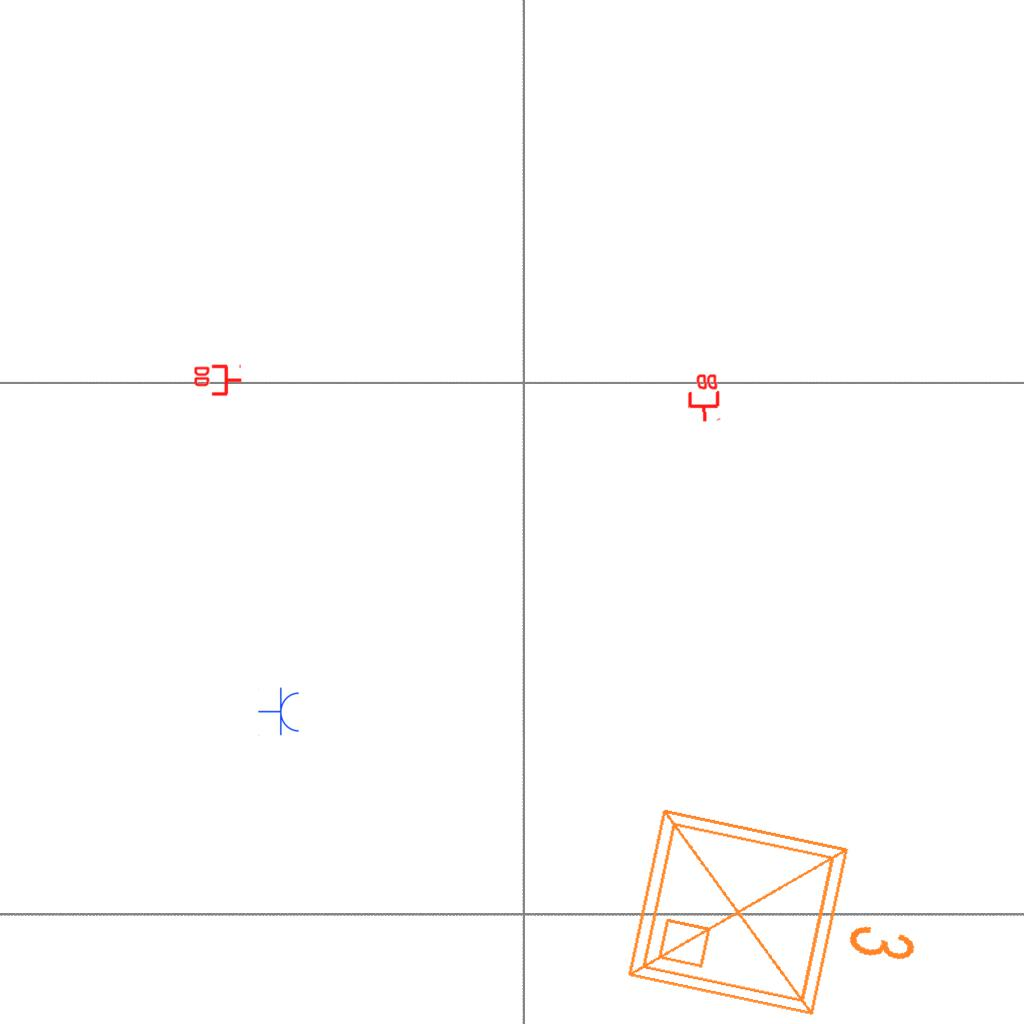Datenanschluss_zweifach: (685, 371, 721, 424), (192, 364, 243, 398)
Einbaudownlights_LED_Konferenzraeume: (610, 784, 948, 1024)
Schukosteckdose_einfach: (258, 687, 301, 737)
